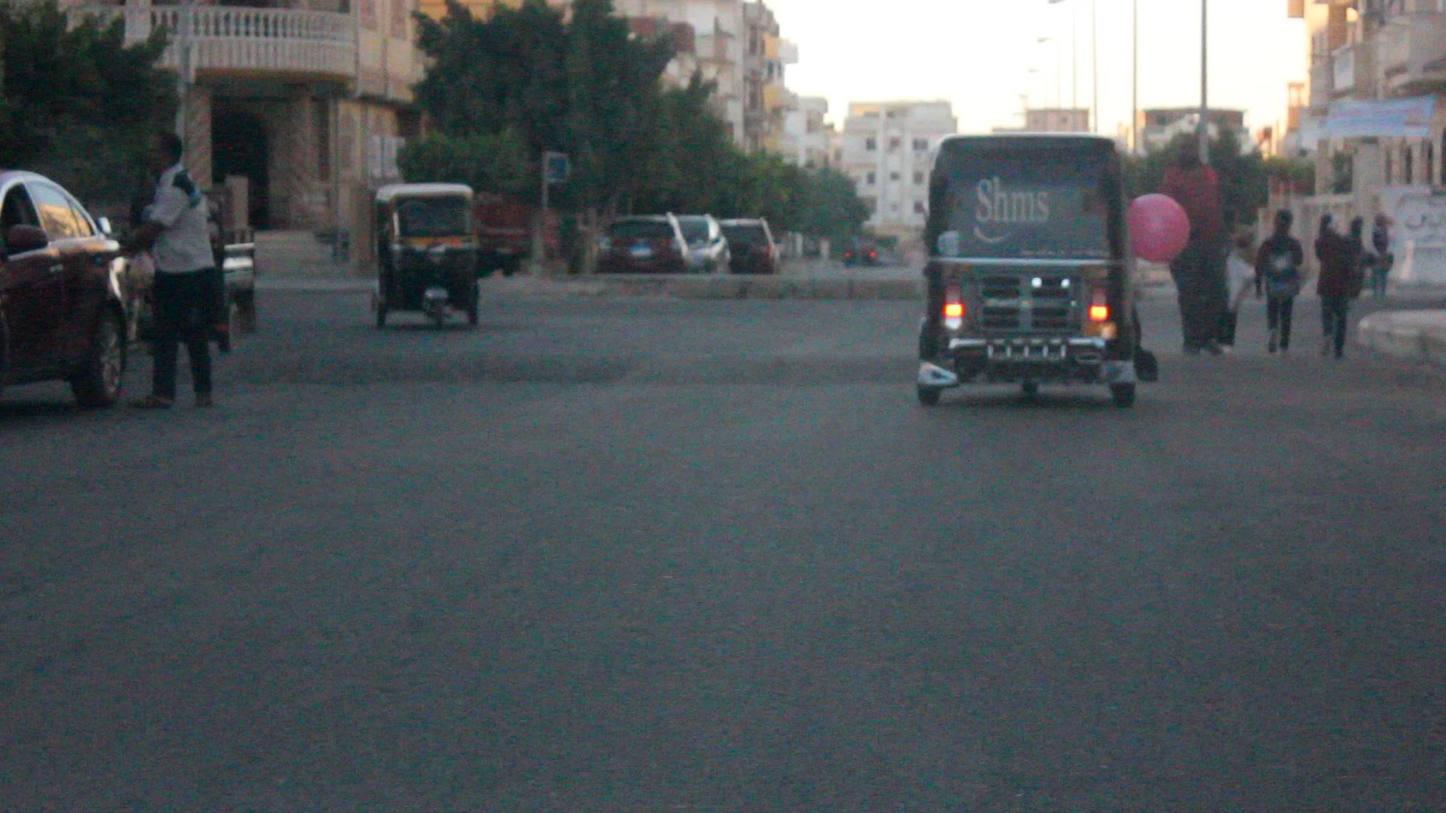Bump: (224, 312, 919, 406)
